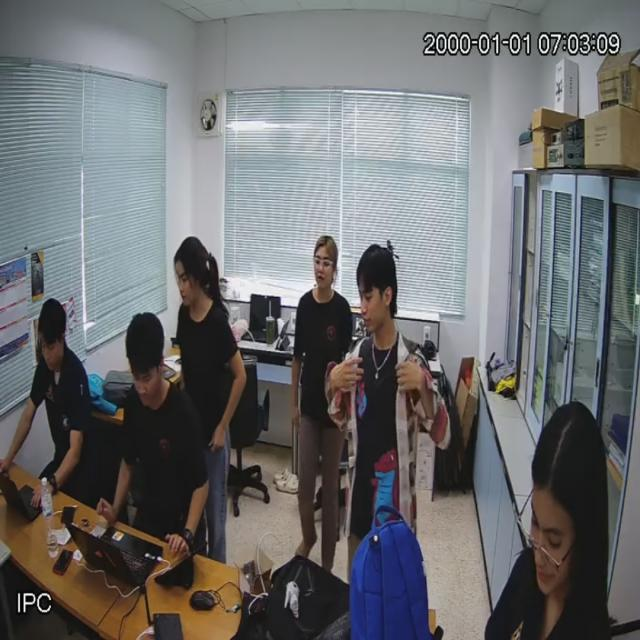normal: (340, 244, 444, 530), (100, 318, 202, 559), (173, 235, 242, 561), (1, 297, 92, 498), (296, 234, 350, 564)
